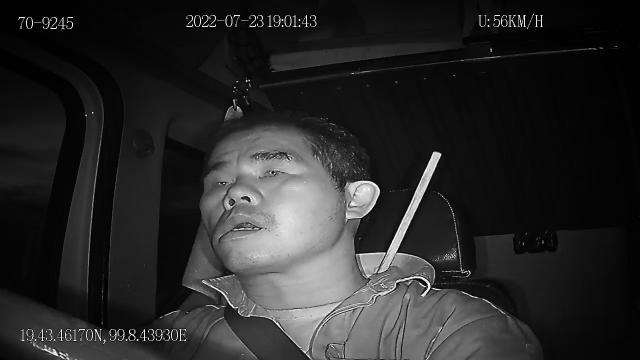SafeDriving: (246, 134, 302, 173)
Seatbelt: (222, 300, 312, 360)
